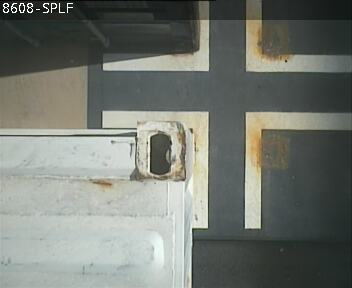groundmarker_1: (100, 110, 352, 228), (103, 1, 352, 70)
